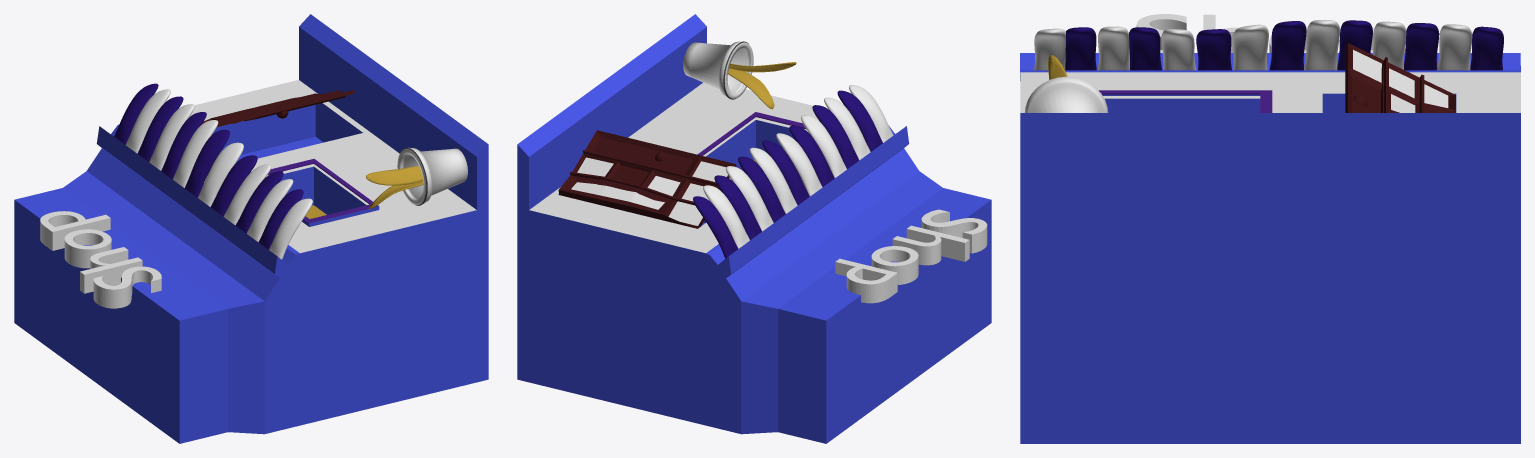
The model's file is shop.fbx.
3 views of the same model, side by side, from view 1: azimuth 30°, elevation 25°; view 2: azimuth 150°, elevation 25°; view 3: azimuth 270°, elevation 25° (orthographic). The views are drawn at different scales.
Visible parts, largest first — view 1: Plane; view 2: Plane; view 3: Plane.
Part boxes in pixels (x1,y1,x2,y2): Plane: (14,14,488,443); Plane: (517,14,991,443); Plane: (1020,14,1520,443).
Size of the model in its own units: 1283 by 848 by 1164.
